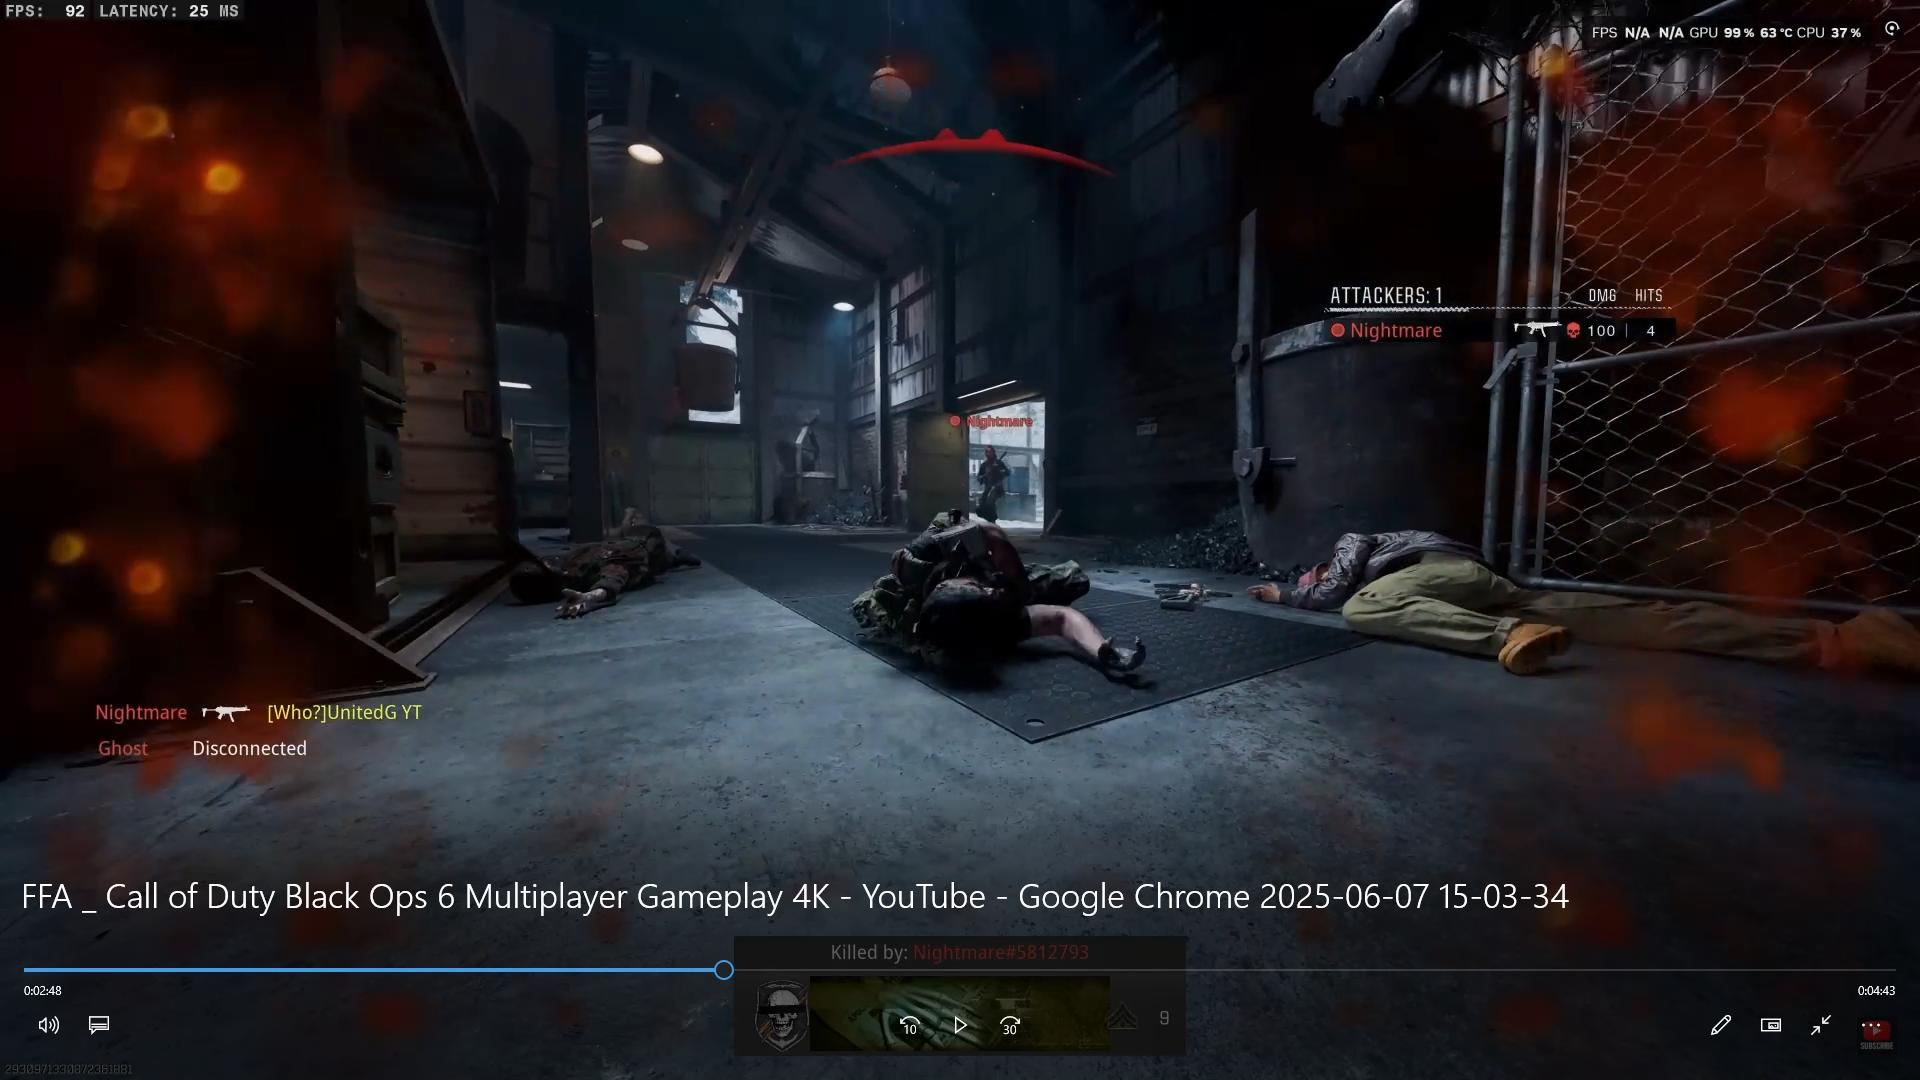Enemy: (972, 440, 1011, 518)
